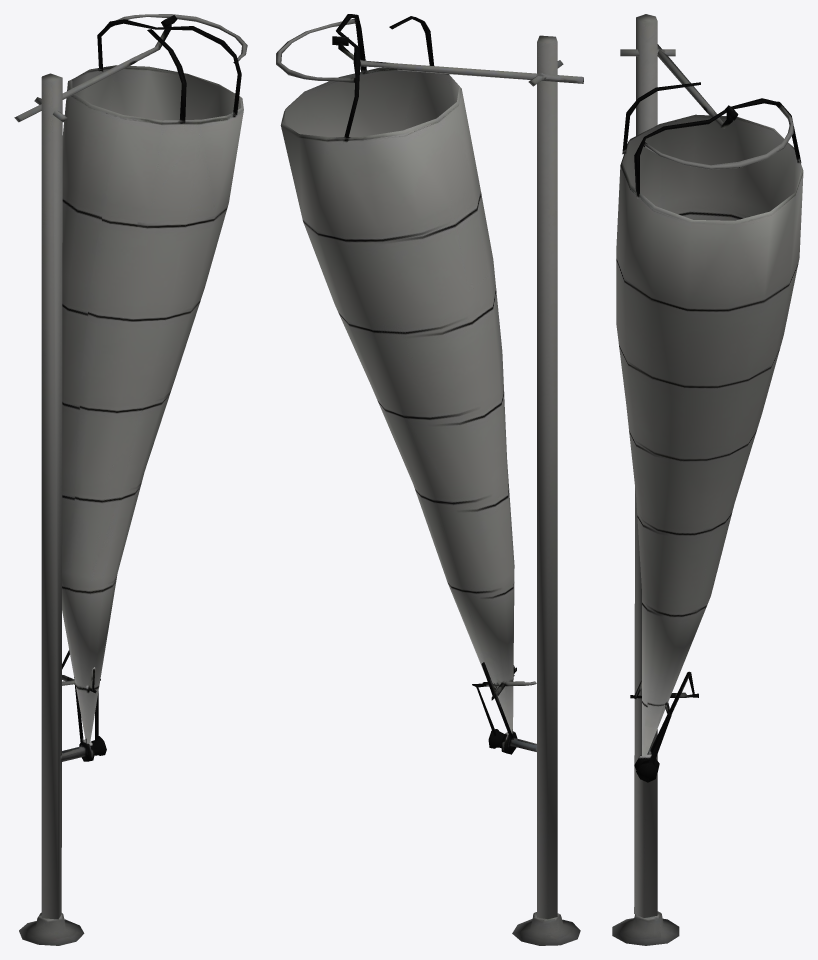
The model's file is windsock.glb.
The picture shows the model from 3 angles, left to right: view 1: azimuth 30°, elevation 25°; view 2: azimuth 150°, elevation 25°; view 3: azimuth 270°, elevation 25°; orthographic projection. The views are drawn at different scales.
Parts seen in each view (by area): view 1: tripo_node_7f4156b3-f308-4044-acbe-043971a4342c; view 2: tripo_node_7f4156b3-f308-4044-acbe-043971a4342c; view 3: tripo_node_7f4156b3-f308-4044-acbe-043971a4342c.
Boxes of the visible parts, x1,y1,x2,y2 form: tripo_node_7f4156b3-f308-4044-acbe-043971a4342c: [14, 14, 247, 945]; tripo_node_7f4156b3-f308-4044-acbe-043971a4342c: [276, 14, 583, 945]; tripo_node_7f4156b3-f308-4044-acbe-043971a4342c: [612, 14, 803, 945].
Size of the model in its own units: 0.3105 by 0.998 by 0.1895.
Materials: 1 (1 with a texture image).
